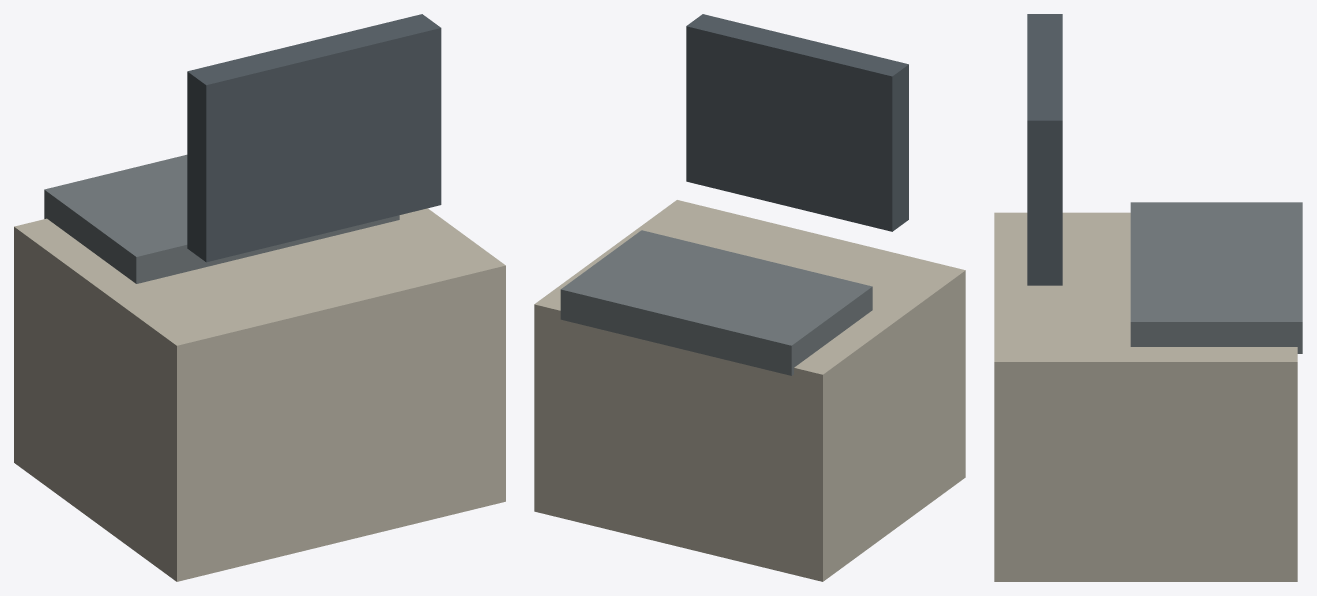
Rendered from cash_register.glb.
The picture shows the model from 3 angles, left to right: view 1: azimuth 30°, elevation 25°; view 2: azimuth 150°, elevation 25°; view 3: azimuth 270°, elevation 25°; orthographic projection. The views are drawn at different scales.
Parts seen in each view (by area): view 1: body; view 2: body; view 3: body.
Part boxes in pixels (x1,y1,x2,y2): body: (14, 14, 505, 581); body: (534, 14, 965, 581); body: (994, 14, 1302, 581).
Size of the model in its own units: 0.35 by 0.48 by 0.305.
